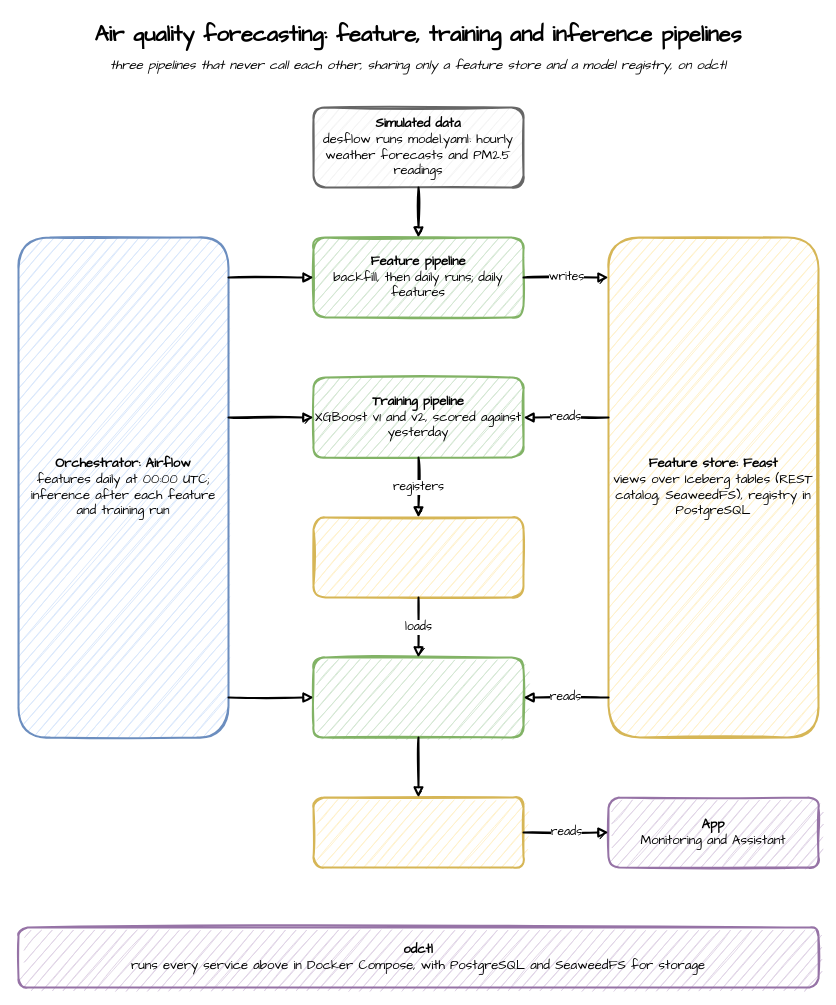
The diagram is 836 pixels wide and 1005 high, and some of its shapes have lost their labels. Here are the shapes that lost their labels. From the top down, the centre of each, then its label:
At (x=418, y=557): "Model registry: MLflow versions, champion and challenger".
At (x=418, y=697): "Inference pipeline batch per as-of date, next 7 days".
At (x=418, y=832): "Predictions Iceberg table".
